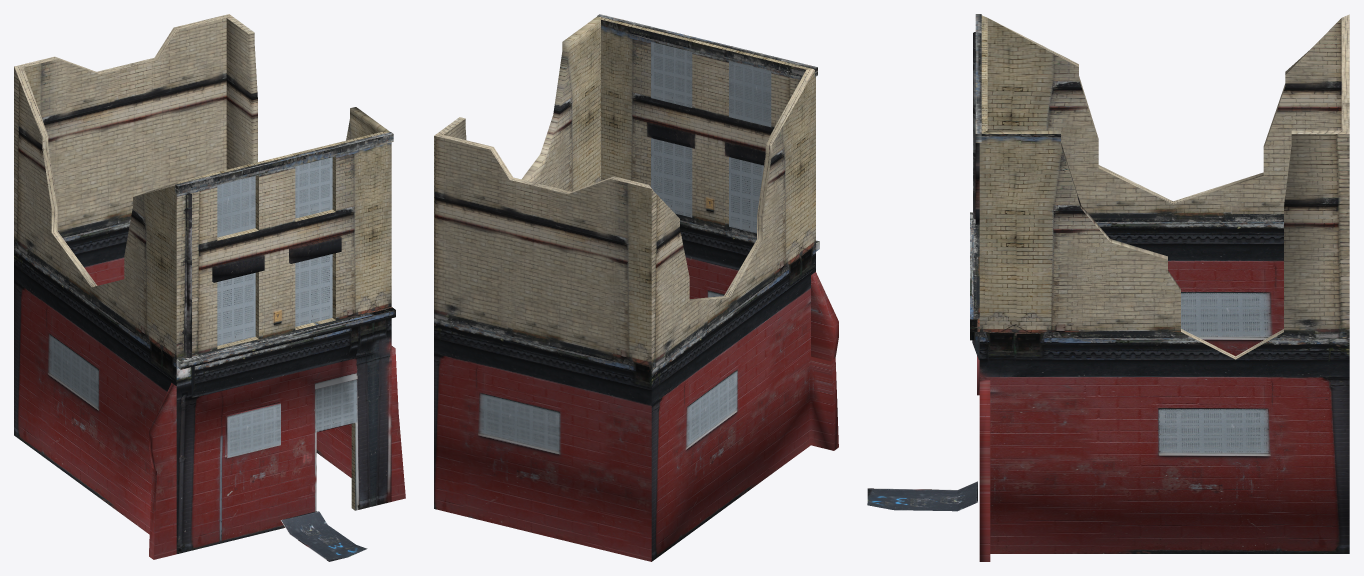
Rendered from building9.obj.
3 views of the same model, side by side, from view 1: azimuth 30°, elevation 25°; view 2: azimuth 150°, elevation 25°; view 3: azimuth 270°, elevation 25° (orthographic). The views are drawn at different scales.
Visible parts, largest first — view 1: material23; view 2: material23; view 3: material23.
Part boxes in pixels (x1,y1,x2,y2): material23: (14, 14, 405, 561); material23: (434, 14, 838, 561); material23: (867, 14, 1349, 561).
Size of the model in its own units: 283 by 396 by 411.
1 material, 1 textured.
